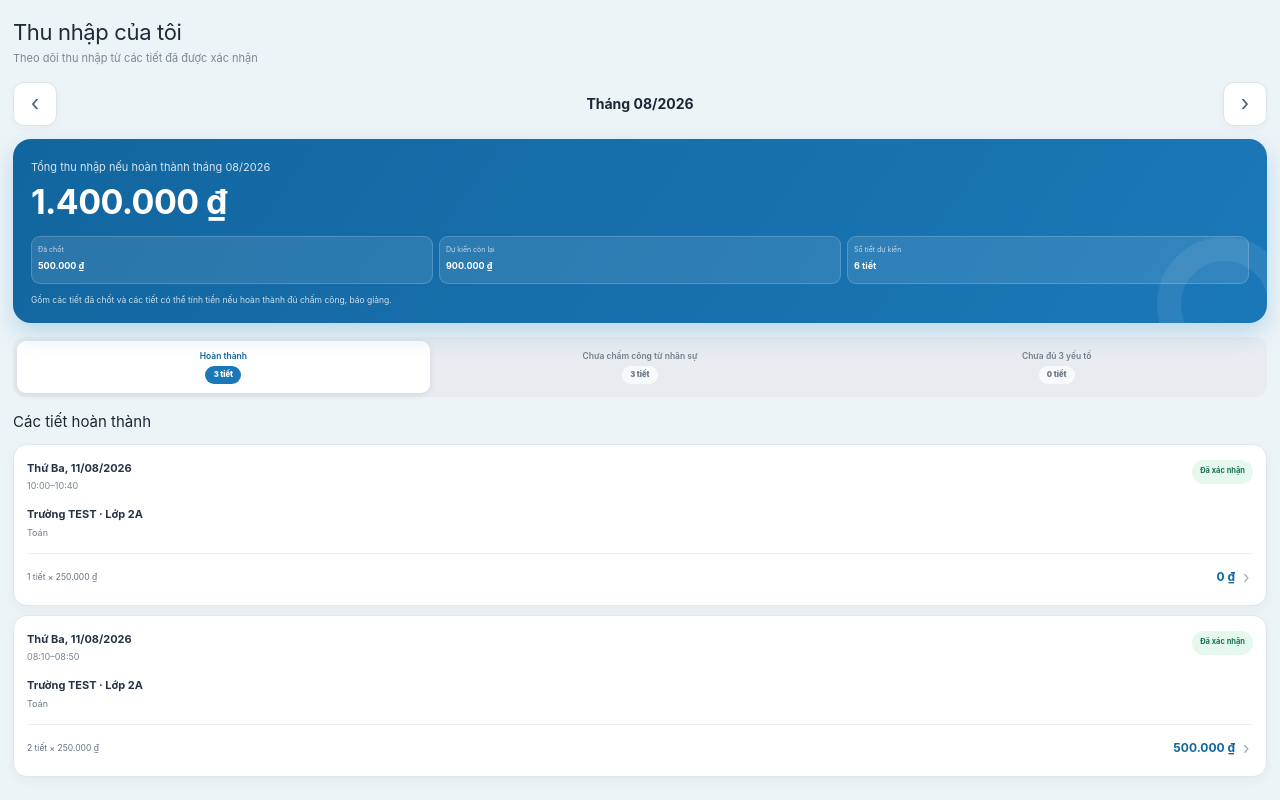
TeacherIncomeScreen › hiển thị tháng có dữ liệu, tổng thu nhập, tổng tiết và amount = 0
Expected: the text "500.000 ₫" next to "900.000 ₫" is shown, [38,260,84,271]
Expected: the text "0 ₫" is shown, [1216,568,1235,586]
Click the tab "Chưa chấm công từ nhân sự 3 tiết". click: (640, 367)
box: [434,341,846,393]
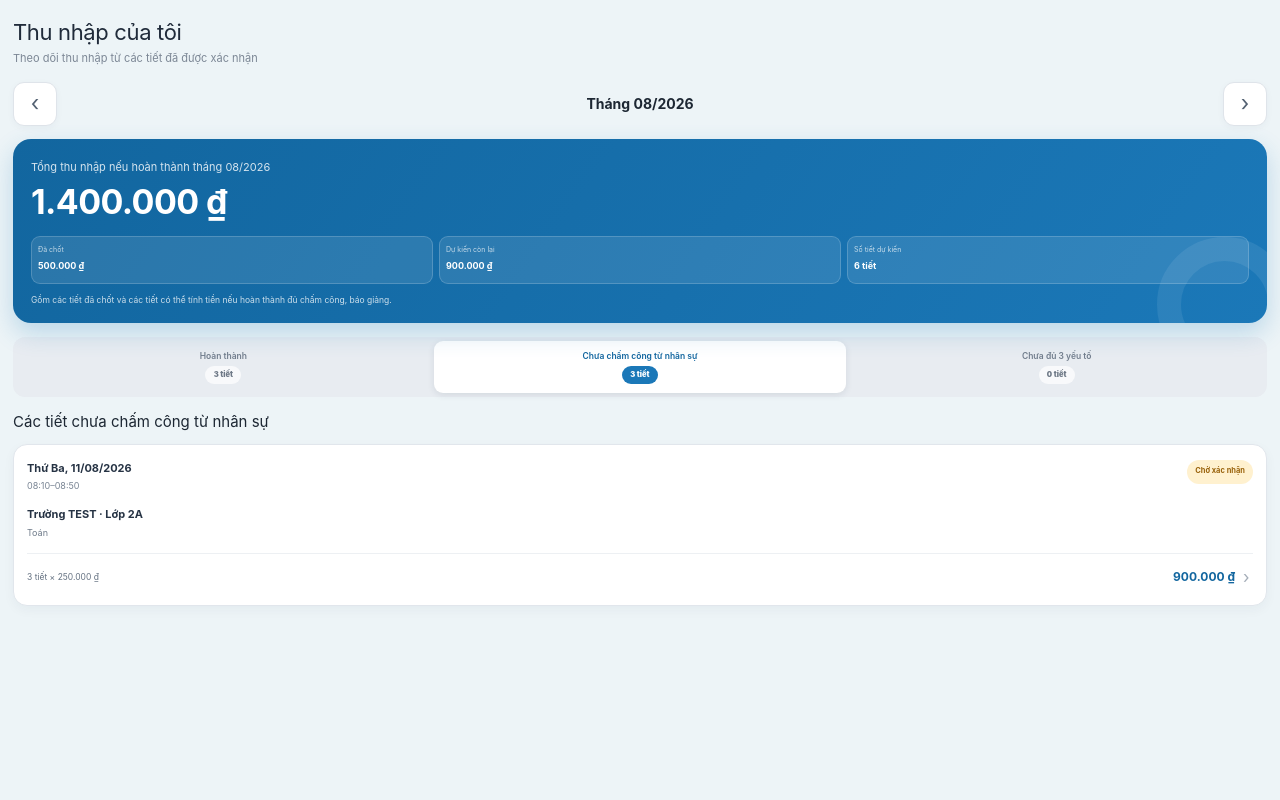
Expected: the text "Chờ xác nhận" is shown, [1187,460,1253,484]
